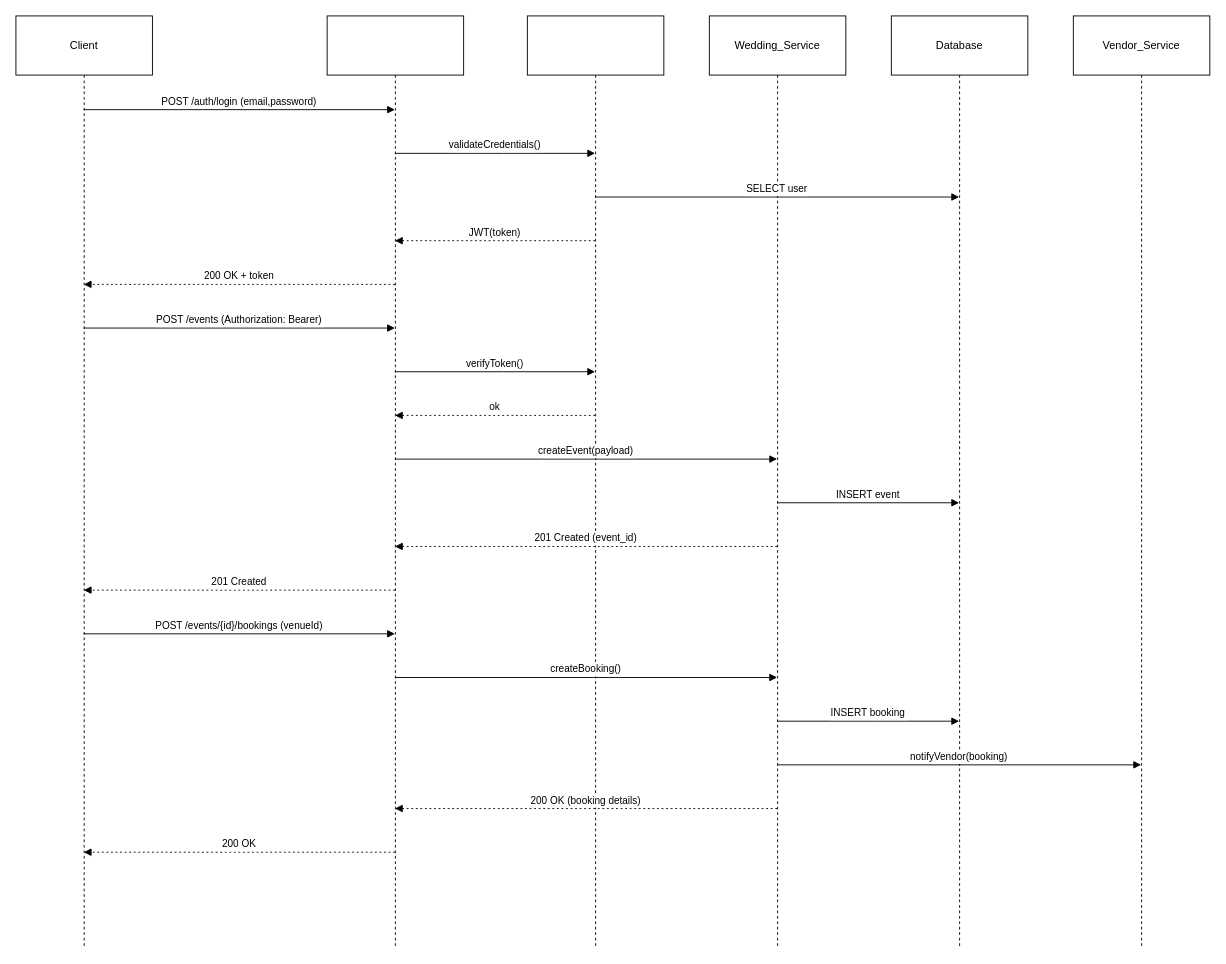
This 1226x964 diagram has some shape labels left out. Here are the shapes that lost their labels. From the top down, the box of each, then its label:
(326, 15, 464, 948): API_Gateway
(526, 15, 664, 948): Auth_Service
